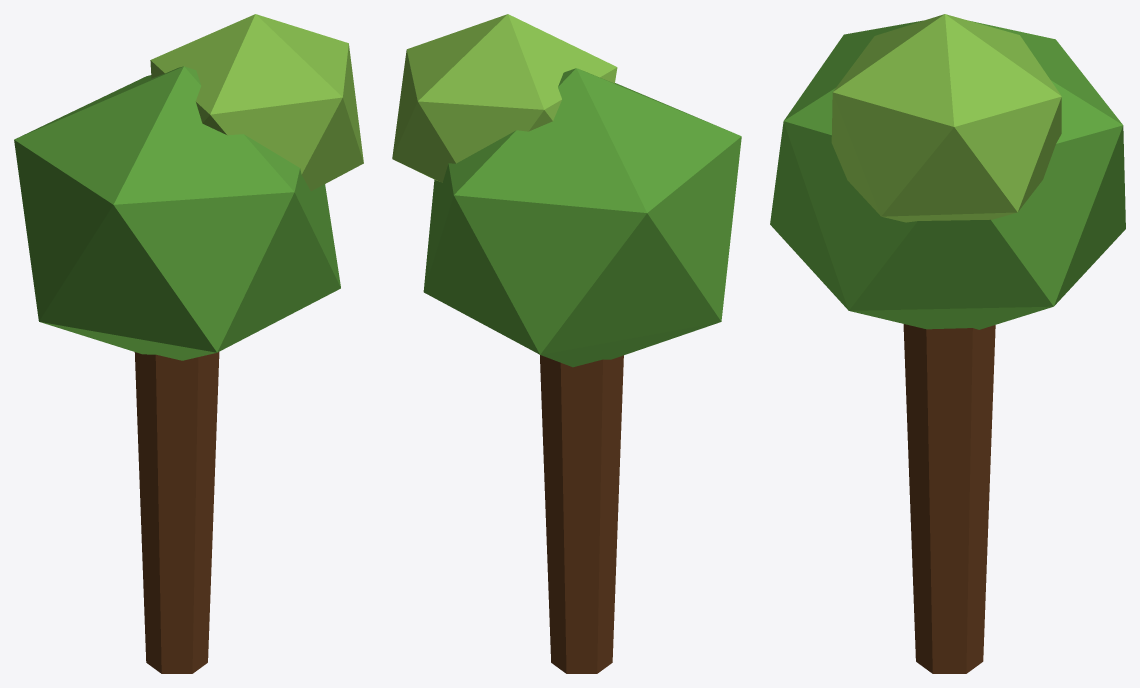
The model's file is garden2_small_tree.glb.
3 renders of one model, left to right at view 1: azimuth 30°, elevation 25°; view 2: azimuth 150°, elevation 25°; view 3: azimuth 270°, elevation 25°, orthographic. The views are drawn at different scales.
Parts seen in each view (by area): view 1: small_tree; view 2: small_tree; view 3: small_tree.
Boxes of the visible parts, bbox=[...] form: small_tree: bbox=[14, 14, 363, 673]; small_tree: bbox=[392, 14, 741, 673]; small_tree: bbox=[770, 14, 1125, 673].
Size of the model in its own units: 0.5854 by 1.13 by 0.5289.
